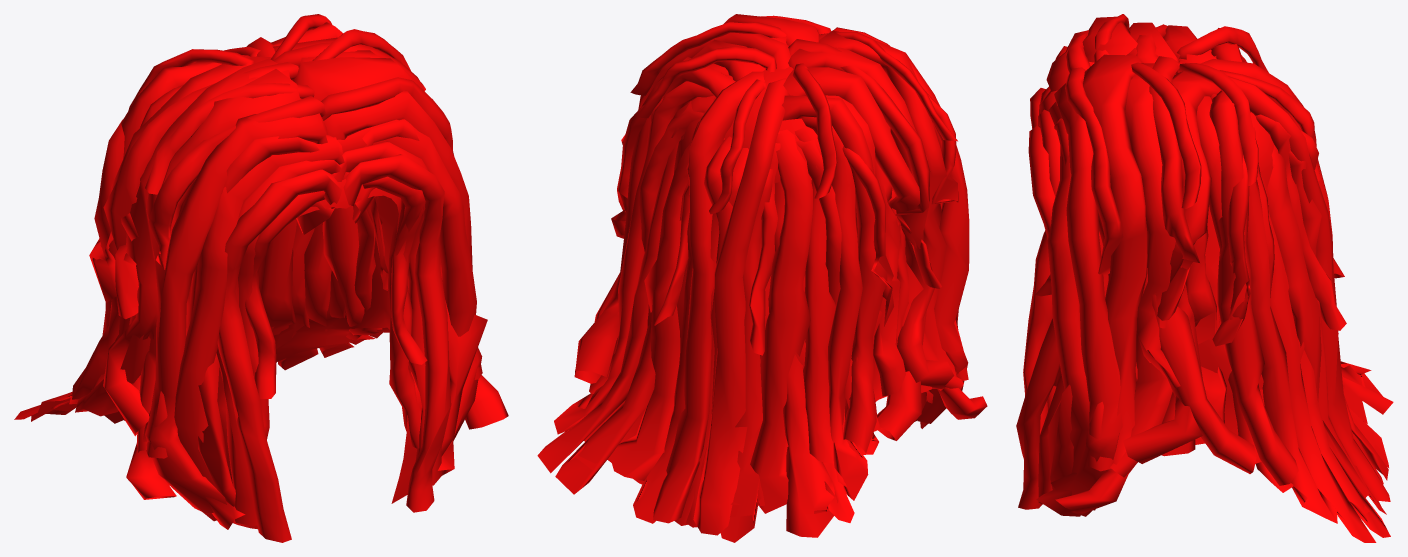
The model's file is punkduck_alpha7_curly_M.glb.
The picture shows the model from 3 angles, left to right: view 1: azimuth 30°, elevation 25°; view 2: azimuth 150°, elevation 25°; view 3: azimuth 270°, elevation 25°; orthographic projection. The views are drawn at different scales.
Bounding box in the file's own units: 0.3572 × 0.4234 × 0.3218.
1 material, 1 textured.
